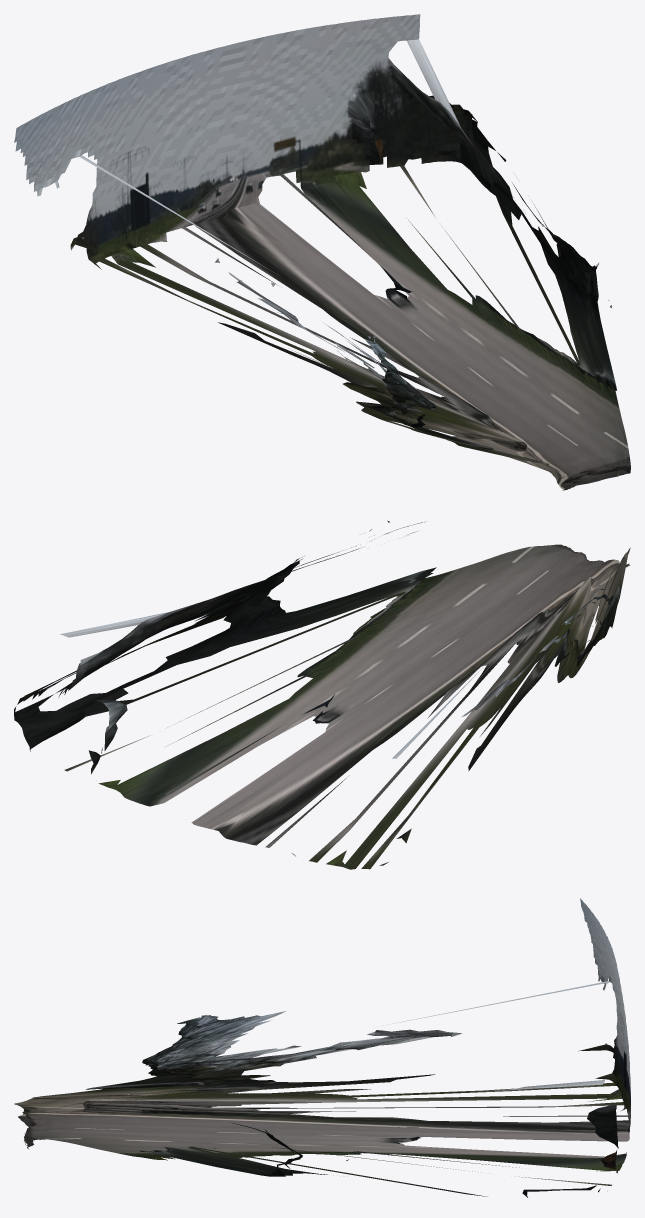
3 views of the same model, one above another, from view 1: azimuth 30°, elevation 25°; view 2: azimuth 150°, elevation 25°; view 3: azimuth 270°, elevation 25° (orthographic). The views are drawn at different scales.
Parts seen in each view (by area): view 1: defaultobject; view 2: defaultobject; view 3: defaultobject.
Part boxes in pixels (<box>): defaultobject: <box>14,14,630,490</box>; defaultobject: <box>14,520,630,869</box>; defaultobject: <box>14,898,630,1197</box>.
Bounding box in the file's own units: 32.45 × 12.4 × 44.9.
1 material, 1 textured.
